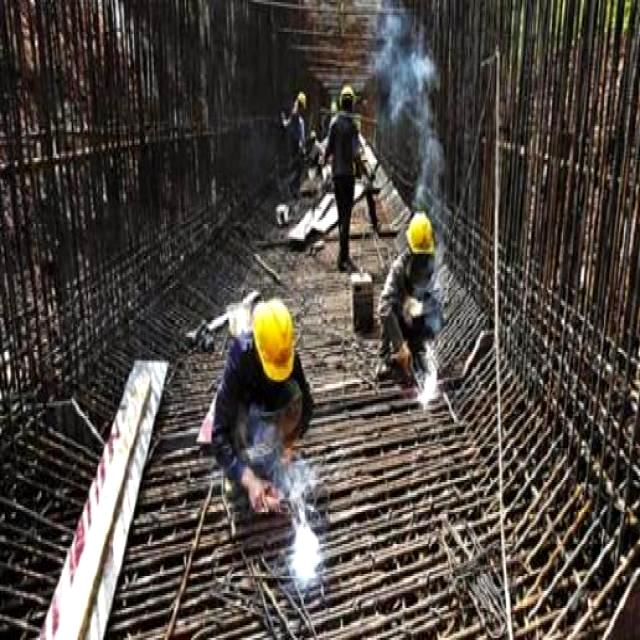hard_hat: (252, 299, 295, 382), (406, 211, 434, 254), (339, 85, 355, 102), (296, 92, 306, 111)
person: (211, 301, 313, 510), (377, 213, 443, 382), (324, 85, 361, 269), (280, 92, 306, 196)
